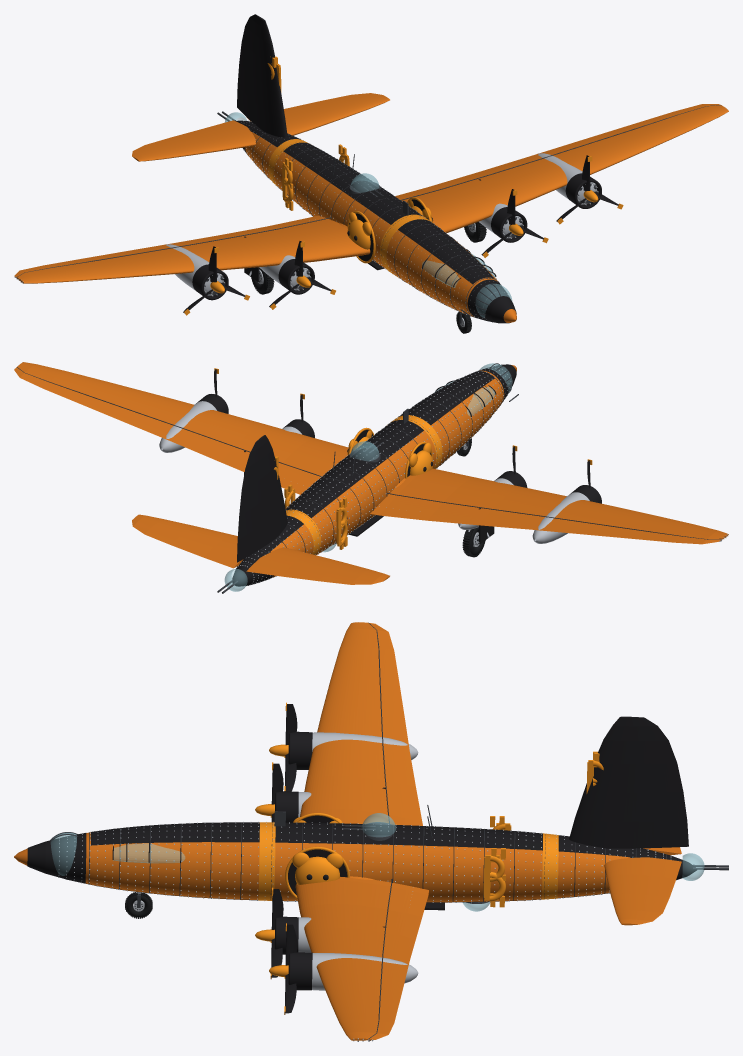
The model's file is bomber-bear.glb.
3 views of the same model, one above another, from view 1: azimuth 30°, elevation 25°; view 2: azimuth 150°, elevation 25°; view 3: azimuth 270°, elevation 25° (orthographic). The views are drawn at different scales.
Parts seen in each view (by area): view 1: wing_right, wing_left, fuselage_skin, spine_stripe, vertical_fin, stabilizer_left, stabilizer_right, nose_band, fuselage_panel_lines, fuselage_rivets, nacelle_3, nacelle_4 (+3 smaller); view 2: wing_left, wing_right, fuselage_skin, spine_stripe, vertical_fin, stabilizer_left, stabilizer_right, fuselage_rivets, fuselage_panel_lines, nacelle_3, tail_band, nacelle_4 (+9 smaller); view 3: fuselage_skin, wing_left, wing_right, vertical_fin, spine_stripe, stabilizer_right, nose_band, fuselage_rivets, fuselage_panel_lines, sash_fwd, cockpit_canopy, sash_aft (+6 smaller).
Part boxes in pixels (bbox=[...]): wing_right: bbox=[395, 104, 728, 233]; wing_left: bbox=[14, 215, 370, 283]; fuselage_skin: bbox=[245, 131, 516, 322]; spine_stripe: bbox=[249, 126, 494, 284]; vertical_fin: bbox=[237, 14, 287, 137]; stabilizer_left: bbox=[132, 120, 255, 161]; stabilizer_right: bbox=[246, 93, 389, 135]; nose_band: bbox=[467, 279, 516, 323]; fuselage_panel_lines: bbox=[242, 121, 502, 322]; fuselage_rivets: bbox=[241, 120, 507, 322]; nacelle_3: bbox=[166, 244, 223, 295]; nacelle_4: bbox=[538, 153, 596, 204]; wing_left: bbox=[370, 468, 728, 544]; wing_right: bbox=[14, 362, 348, 494]; fuselage_skin: bbox=[270, 365, 516, 577]; spine_stripe: bbox=[258, 371, 494, 554]; vertical_fin: bbox=[237, 435, 287, 562]; stabilizer_left: bbox=[246, 547, 389, 584]; stabilizer_right: bbox=[132, 514, 243, 568]; fuselage_rivets: bbox=[236, 366, 510, 585]; fuselage_panel_lines: bbox=[240, 366, 511, 584]; nacelle_3: bbox=[532, 492, 589, 543]; tail_band: bbox=[232, 547, 273, 586]; nacelle_4: bbox=[159, 401, 216, 452]; fuselage_skin: bbox=[14, 832, 630, 902]; wing_left: bbox=[300, 622, 422, 825]; wing_right: bbox=[295, 877, 428, 1040]; vertical_fin: bbox=[569, 716, 688, 848]; spine_stripe: bbox=[91, 822, 639, 857]; stabilizer_right: bbox=[604, 857, 681, 925]; nose_band: bbox=[27, 833, 86, 883]; fuselage_rivets: bbox=[58, 821, 671, 902]; fuselage_panel_lines: bbox=[58, 822, 666, 902]; sash_fwd: bbox=[258, 822, 275, 900]; cockpit_canopy: bbox=[113, 843, 184, 863]; sash_aft: bbox=[541, 833, 558, 899].
Size of the model in its own units: 43.86 by 10.09 by 31.8.
